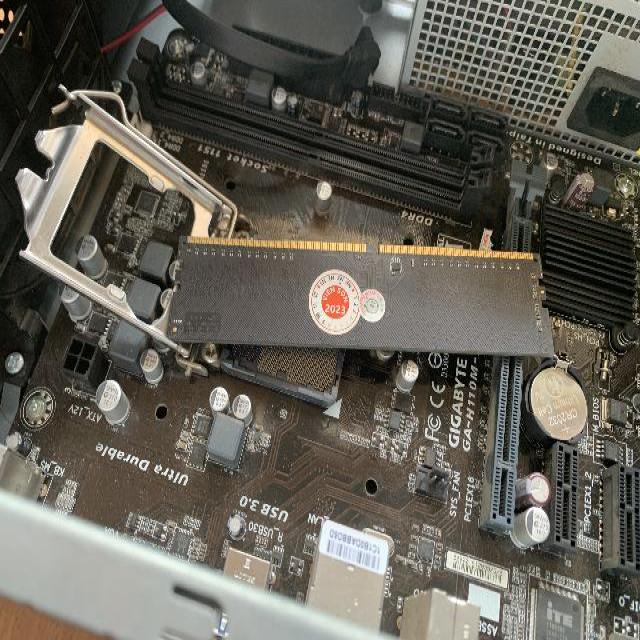Mainboard: (8, 38, 640, 606)
RAM: (168, 228, 555, 356)
